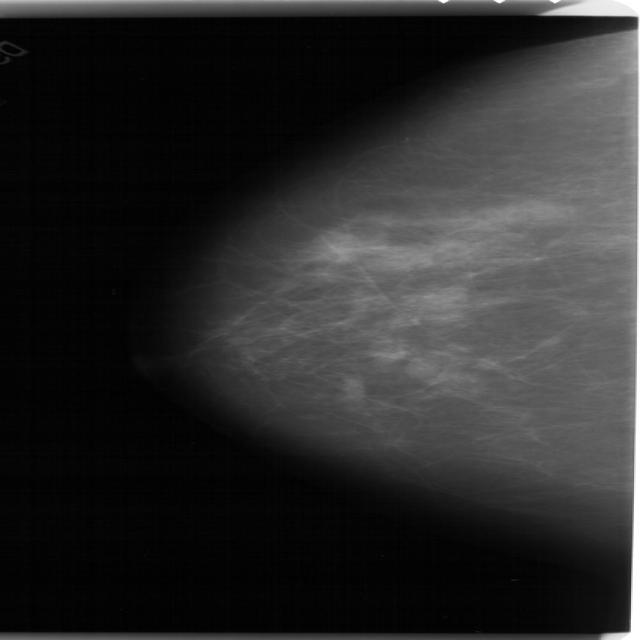tumour: (403, 356, 438, 377)
